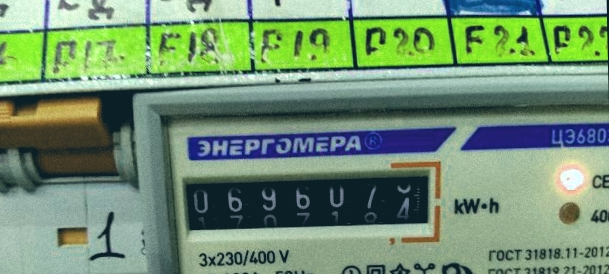0: (327, 179, 346, 209), (192, 186, 210, 214)
4: (394, 193, 412, 222)
6: (294, 181, 312, 210), (226, 184, 244, 212)
7: (361, 179, 381, 211)
9: (259, 183, 278, 212)
screen: (170, 157, 448, 247)
